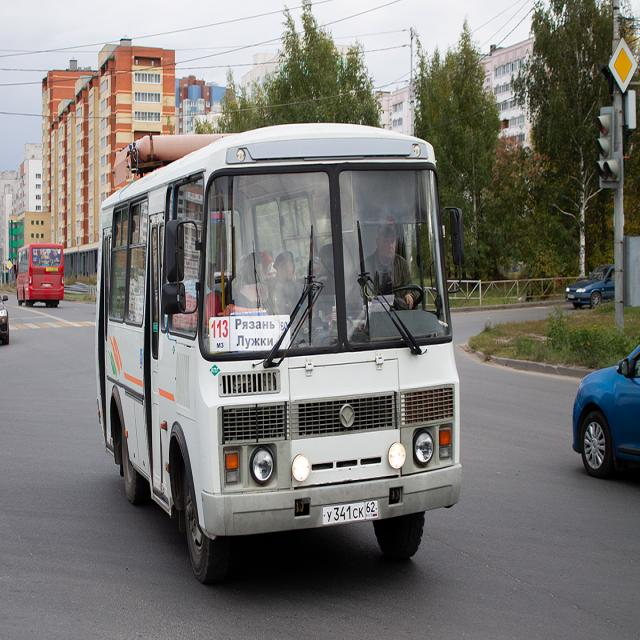number-of-bus: (211, 320, 230, 341)
